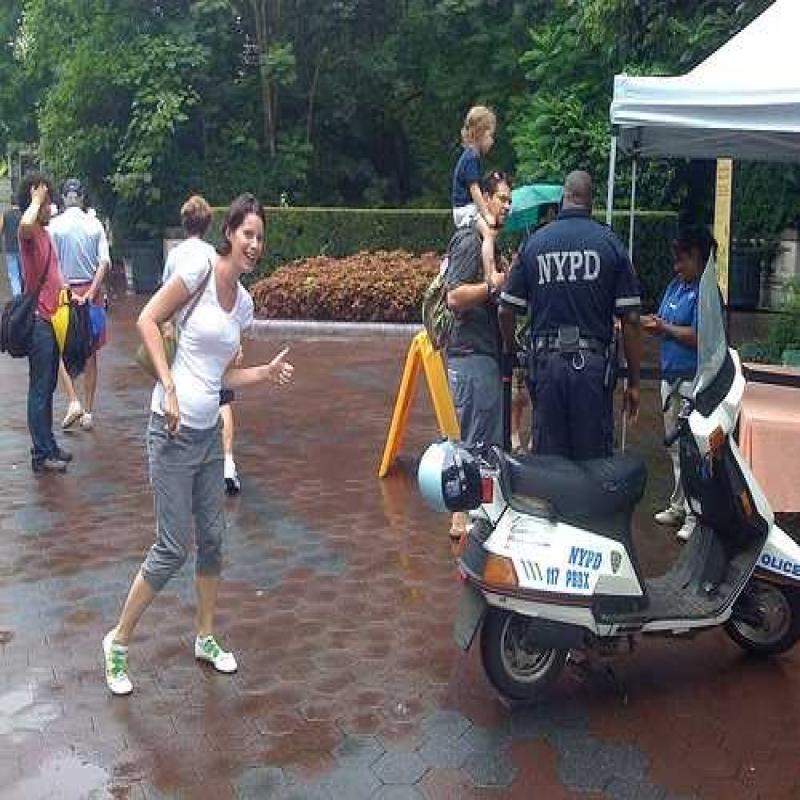bike: (449, 355, 800, 701)
